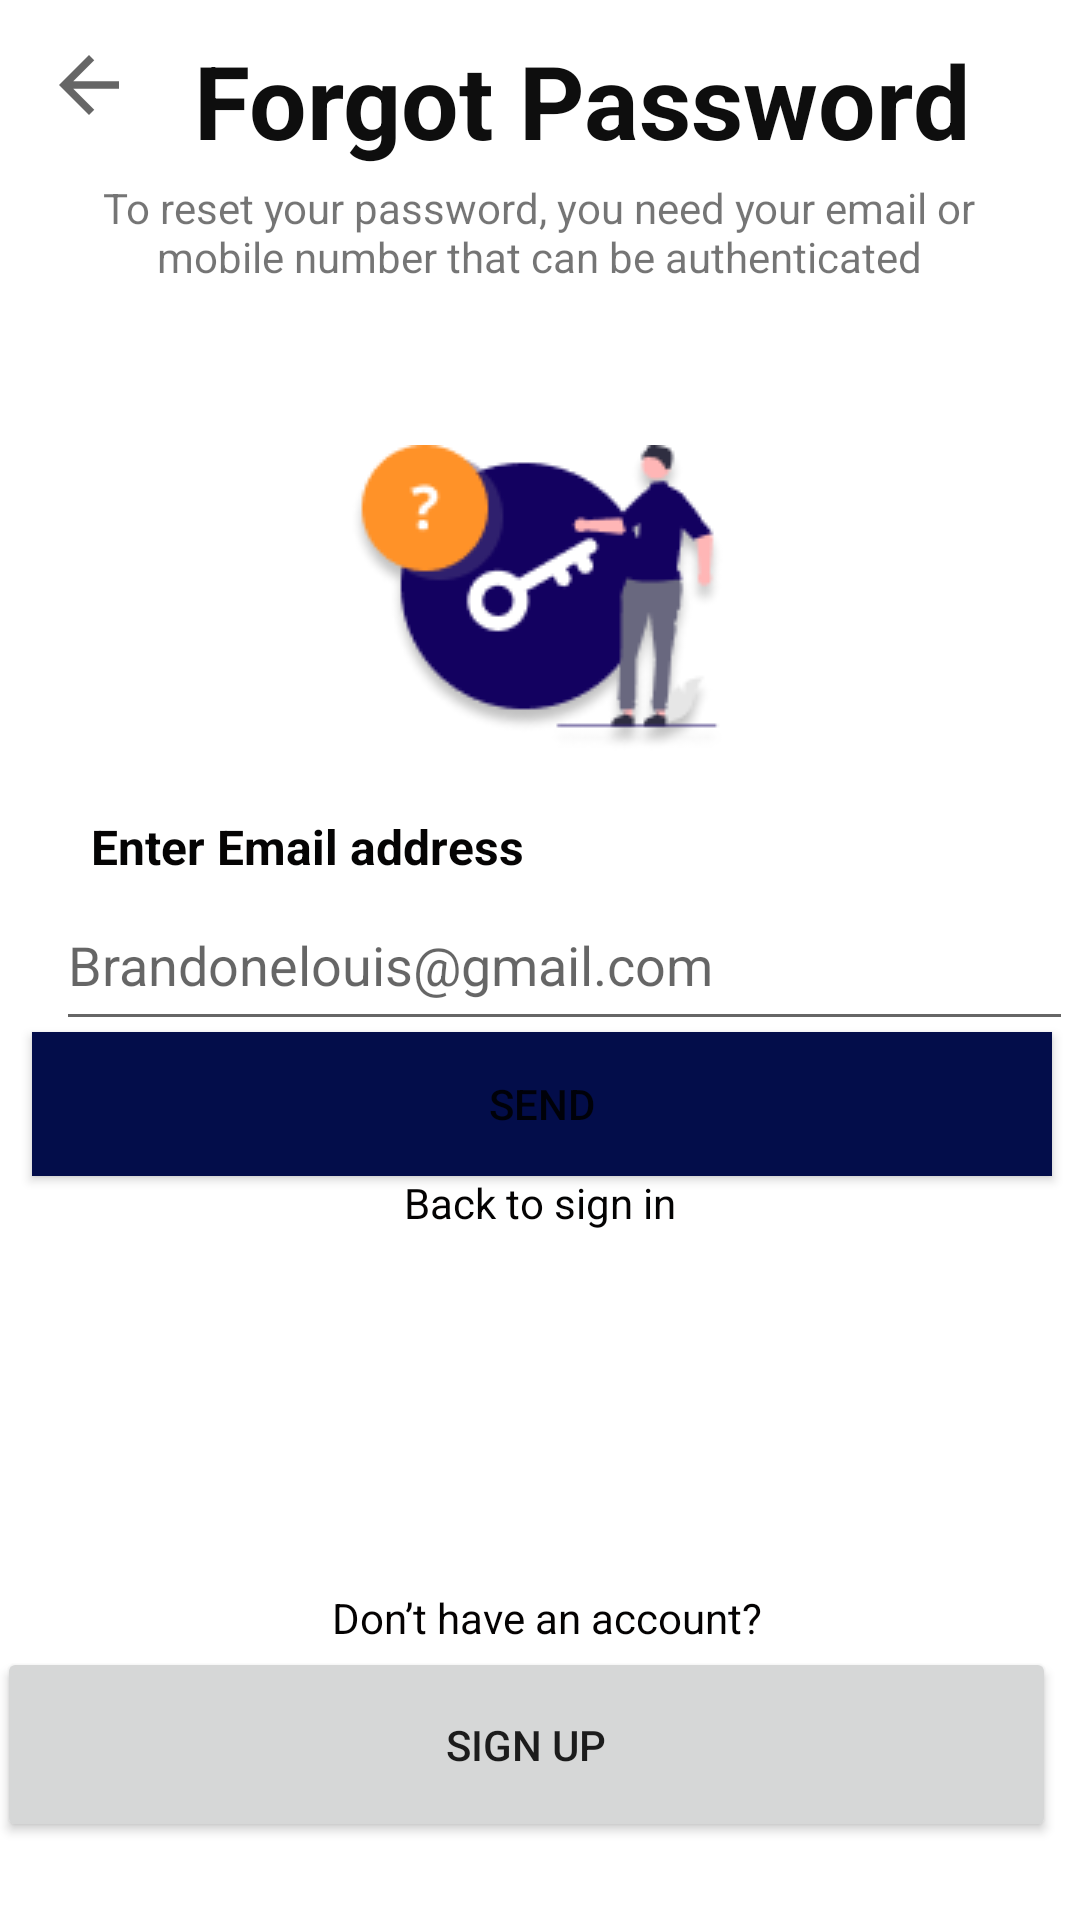

Icons on this 1080w x 1920h Android screen, each with its box as (x1, y1, x2, y2):
back button: (59, 55, 119, 115)
